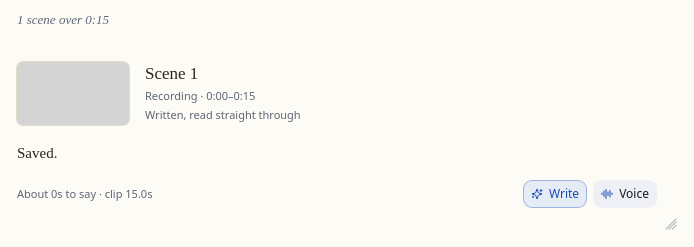
writing the whole script in one place › will not voice words that have not been saved yet
This screenshot has width=694, height=247.
Type " Edited." into the text box named "Narration for scene 1" at (337, 153), box x1=17 y1=140 x2=657 y2=166
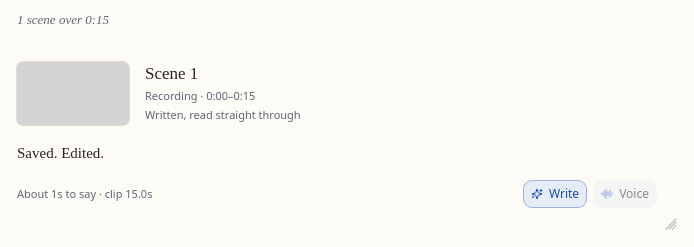
Expected: the button with aria-label "Voice Narration for scene 1" is disabled, x1=593 y1=180 x2=657 y2=208
